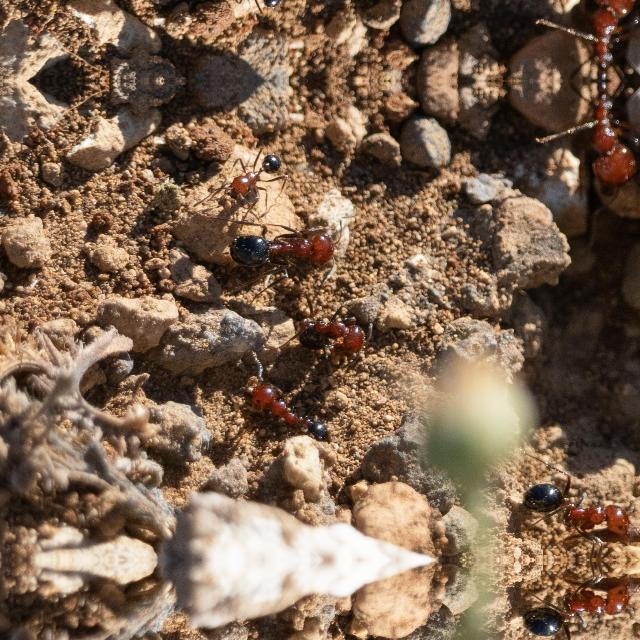Messor: (553, 80, 639, 196), (522, 462, 636, 542), (521, 576, 636, 640), (553, 0, 639, 80), (233, 216, 345, 276), (239, 378, 333, 446), (290, 305, 378, 367), (224, 148, 282, 204), (224, 0, 282, 11)
